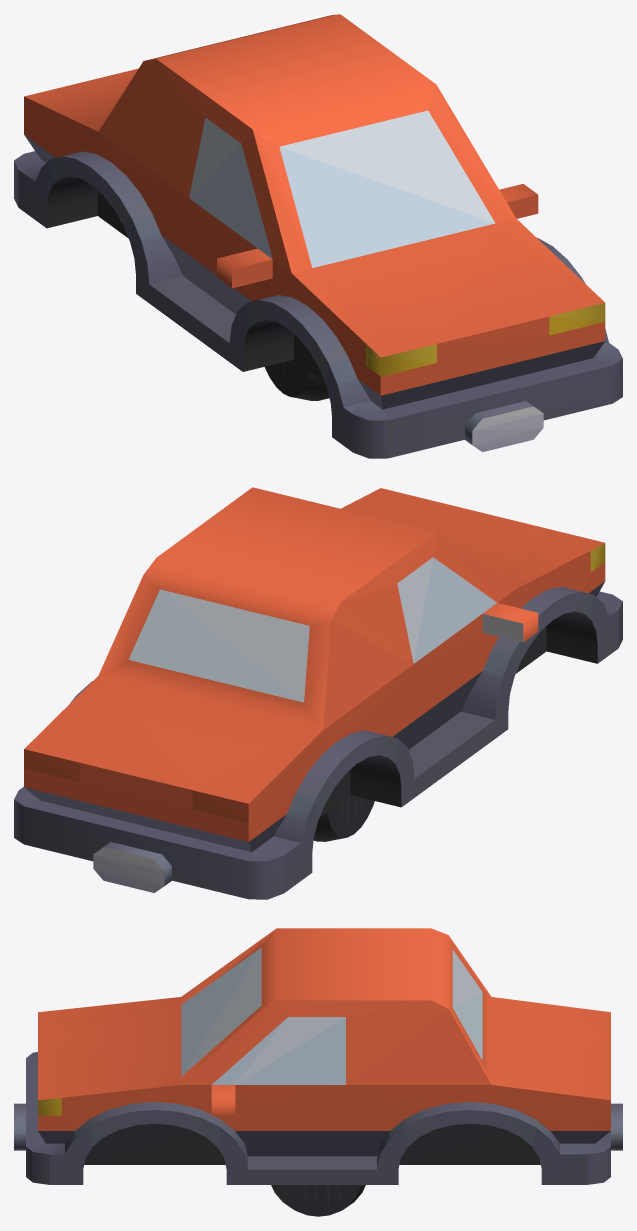
Rendered from sedan.glb.
3 views of the same model, one above another, from view 1: azimuth 30°, elevation 25°; view 2: azimuth 150°, elevation 25°; view 3: azimuth 270°, elevation 25° (orthographic). The views are drawn at different scales.
Parts seen in each view (by area): view 1: body_paint, trim, wheel_right; view 2: body_paint, trim, wheel_right; view 3: body_paint, trim, wheel_left.
Part boxes in pixels (left/top/right/bottom): body_paint: left=24, top=14, right=605, bottom=395; trim: left=14, top=110, right=622, bottom=458; wheel_right: left=265, top=359, right=328, bottom=400; body_paint: left=24, top=487, right=605, bottom=841; trim: left=14, top=543, right=622, bottom=899; wheel_right: left=313, top=795, right=374, bottom=841; body_paint: left=38, top=928, right=610, bottom=1130; trim: left=14, top=947, right=622, bottom=1184; wheel_left: left=271, top=1185, right=365, bottom=1216.
Bounding box in the file's own units: 2.1 × 2 × 4.5.
